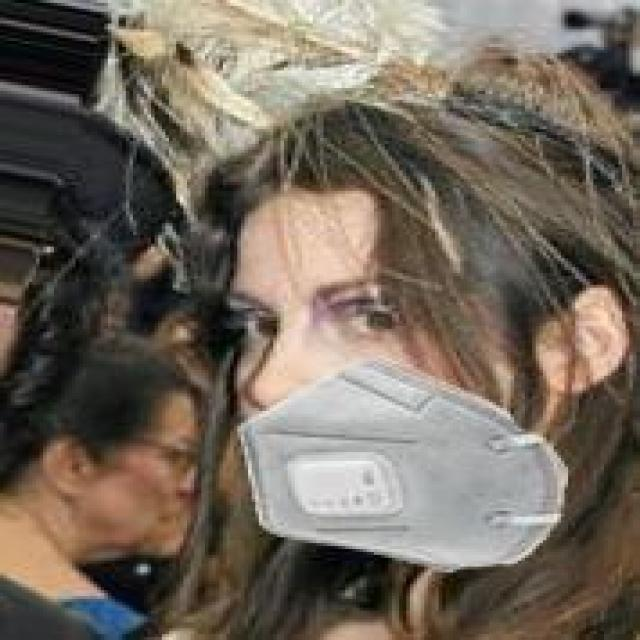mask: (194, 135, 640, 531)
